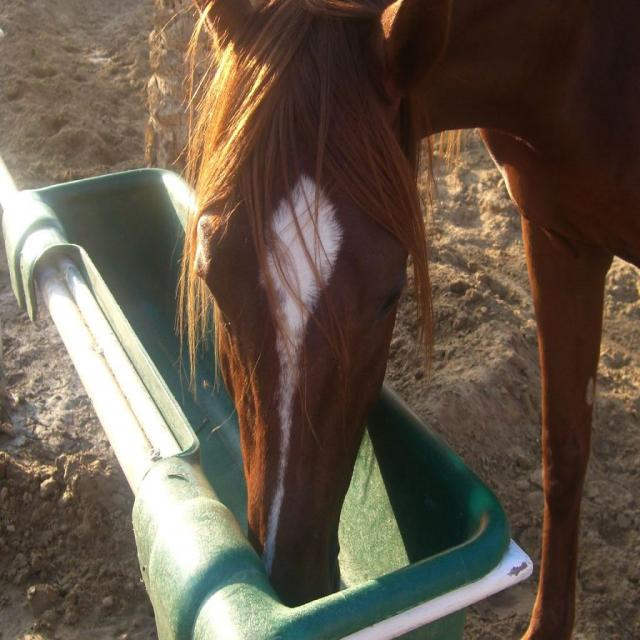Horse: (152, 0, 640, 640)
